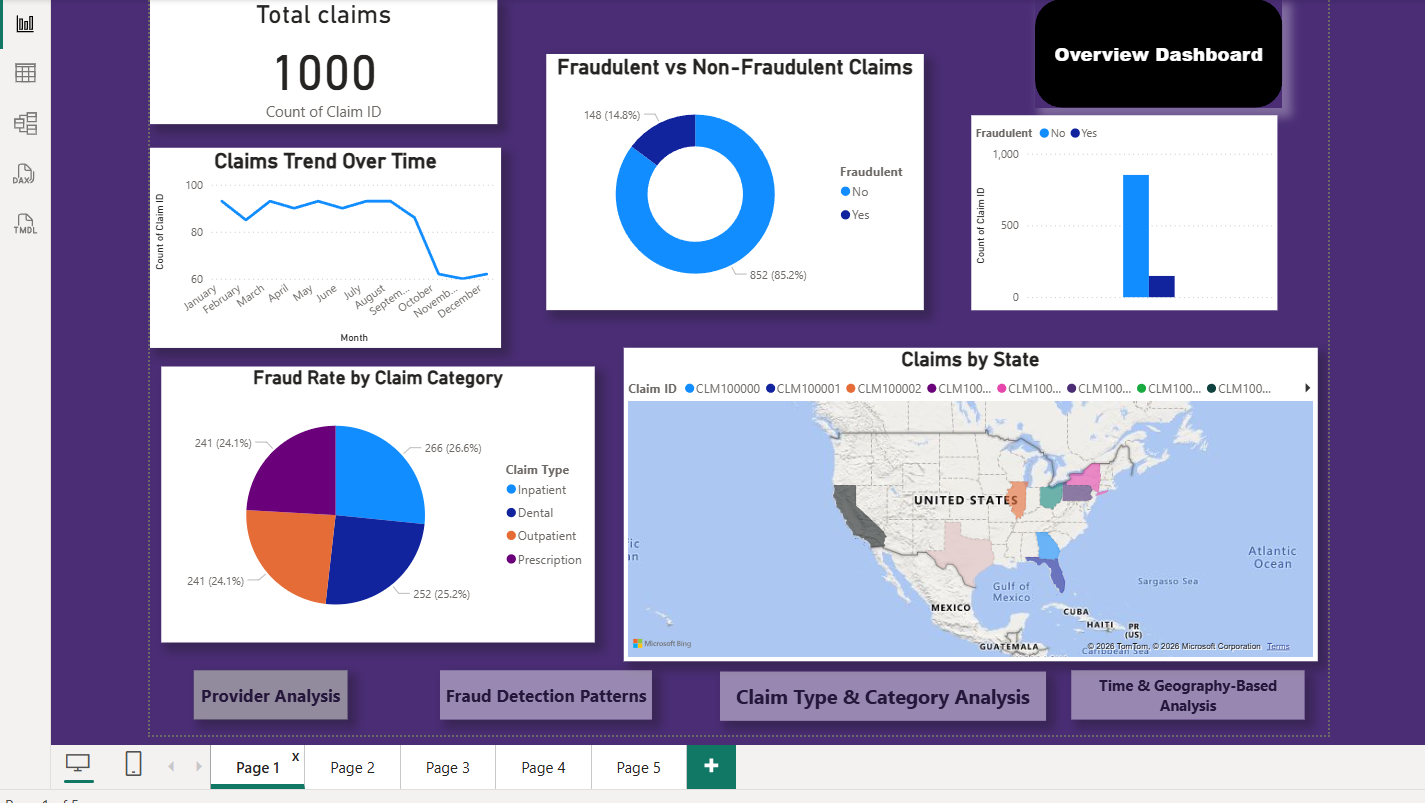

This screenshot's page, from the dashboard's own definition file:
{"tool":"powerbi","page":{"name":"Page 1","canvas":[1280,800],"ordinal":0},"visuals":[{"type":"card","title":"Total claims","fields":{"Values":["CountNonNull(Healthcare_Claims_Fraud_Dataset.Claim ID)"]},"box":[0,0,377.7,135.9],"z":0},{"type":"lineChart","title":"Claims Trend Over Time","fields":{"Category":["Healthcare_Claims_Fraud_Dataset.Claim Date.Variation.Date Hierarchy.Year","Healthcare_Claims_Fraud_Dataset.Claim Date.Variation.Date Hierarchy.Month","Healthcare_Claims_Fraud_Dataset.Claim Date.Variation.Date Hierarchy.Day"],"Y":["CountNonNull(Healthcare_Claims_Fraud_Dataset.Claim ID)"]},"box":[0,161.7,381.8,217.4],"z":1000},{"type":"donutChart","title":"Fraudulent vs Non-Fraudulent Claims","fields":{"Category":["Healthcare_Claims_Fraud_Dataset.Fraudulent"],"Y":["CountNonNull(Healthcare_Claims_Fraud_Dataset.Claim ID)"]},"box":[430.7,59.8,410.3,278.5],"z":2000},{"type":"clusteredColumnChart","title":"Provider claim trends","fields":{"Y":["CountNonNull(Healthcare_Claims_Fraud_Dataset.Claim ID)"],"Series":["Healthcare_Claims_Fraud_Dataset.Fraudulent"]},"box":[892.7,126.4,332.9,212],"z":3000},{"type":"filledMap","title":"Claims by State ","fields":{"Category":["Healthcare_Claims_Fraud_Dataset.State","Healthcare_Claims_Fraud_Dataset.Fraudulent"],"Series":["Healthcare_Claims_Fraud_Dataset.Claim ID"]},"box":[514.9,379.1,754.1,341],"z":4000},{"type":"pieChart","title":"Fraud Rate by Claim Category ","fields":{"Category":["Healthcare_Claims_Fraud_Dataset.Claim Type"],"Y":["CountNonNull(Healthcare_Claims_Fraud_Dataset.Claim ID)"]},"box":[12.2,399.5,471.5,300.3],"z":5000},{"type":"actionButton","box":[48,730,167.4,53.5],"z":6000},{"type":"actionButton","box":[315.6,730,230.5,53.5],"z":7000},{"type":"actionButton","box":[620.2,731.4,354,53.5],"z":8000},{"type":"actionButton","box":[1001.7,730,253.9,53.5],"z":9000},{"type":"shape","box":[962,0,269,118.2],"z":10000}]}

Visuals, with their boxes on the page's 1280x800 design canvas (x1, y1, x2, y2). These are canvas units, not pixel positions in the 1425x803 screenshot, which may show the page scaled, cropped or inside an application window:
"Total claims" card: {"x1": 0, "y1": 0, "x2": 378, "y2": 136}
"Claims Trend Over Time" lineChart: {"x1": 0, "y1": 162, "x2": 382, "y2": 379}
"Fraudulent vs Non-Fraudulent Claims" donutChart: {"x1": 431, "y1": 60, "x2": 841, "y2": 338}
"Provider claim trends" clusteredColumnChart: {"x1": 893, "y1": 126, "x2": 1226, "y2": 338}
"Claims by State " filledMap: {"x1": 515, "y1": 379, "x2": 1269, "y2": 720}
"Fraud Rate by Claim Category " pieChart: {"x1": 12, "y1": 400, "x2": 484, "y2": 700}
actionButton: {"x1": 48, "y1": 730, "x2": 215, "y2": 784}
actionButton: {"x1": 316, "y1": 730, "x2": 546, "y2": 784}
actionButton: {"x1": 620, "y1": 731, "x2": 974, "y2": 785}
actionButton: {"x1": 1002, "y1": 730, "x2": 1256, "y2": 784}
shape: {"x1": 962, "y1": 0, "x2": 1231, "y2": 118}
